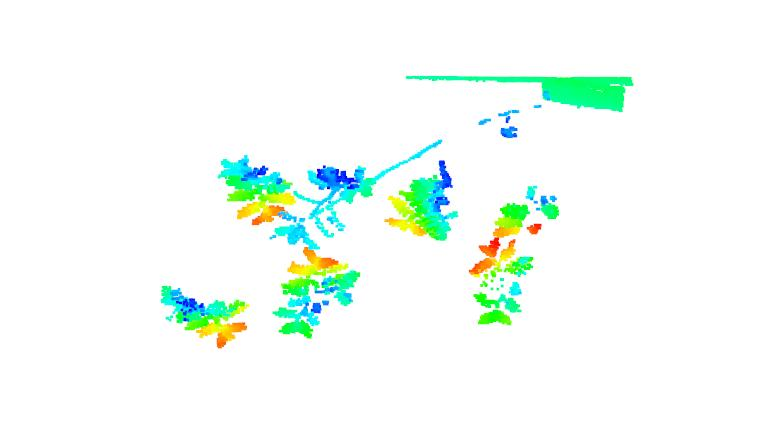chickpea: (272, 163, 373, 251), (273, 247, 361, 339), (383, 161, 462, 240), (157, 281, 250, 348), (468, 236, 536, 325), (218, 152, 294, 226), (490, 184, 562, 234)
